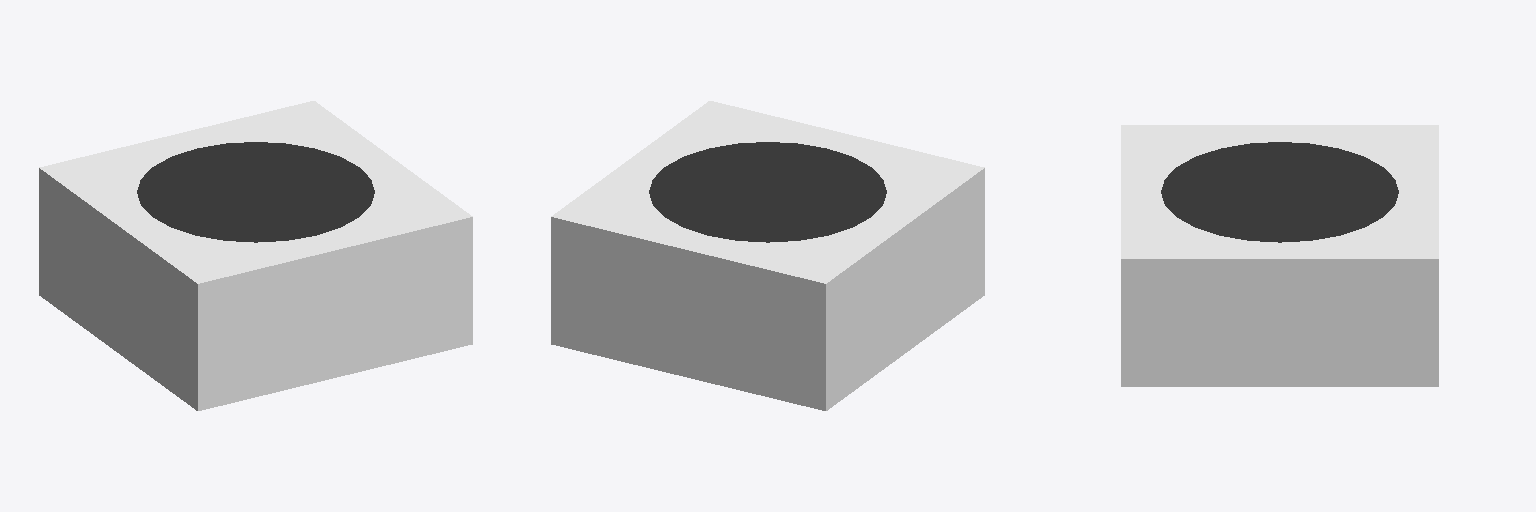
File: detail_001.obj
3 renders of one model, left to right at view 1: azimuth 30°, elevation 25°; view 2: azimuth 150°, elevation 25°; view 3: azimuth 270°, elevation 25°, orthographic.
Parts seen in each view (by area): view 1: detail_001; view 2: detail_001; view 3: detail_001.
Boxes of the visible parts, x1=… form: detail_001: x1=39, y1=101, x2=472, y2=410; detail_001: x1=551, y1=101, x2=984, y2=410; detail_001: x1=1121, y1=125, x2=1438, y2=386.
Size of the model in its own units: 0.24 by 0.1063 by 0.24.